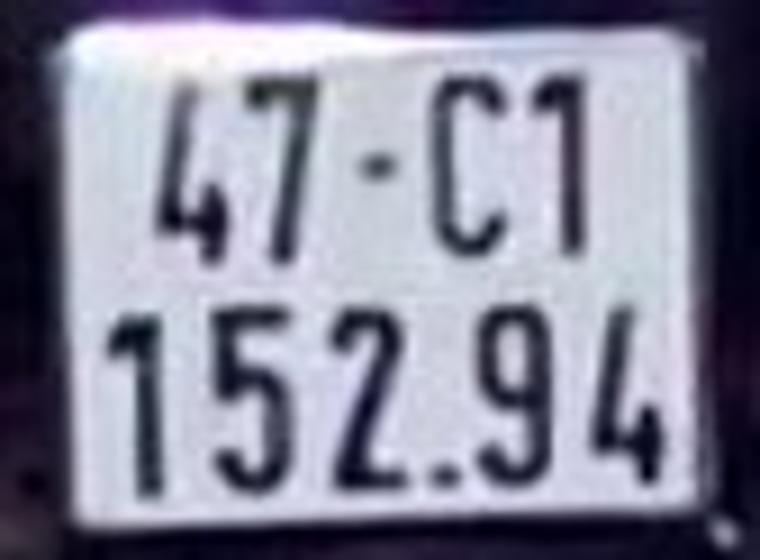-: (343, 152, 400, 181)
.: (429, 456, 461, 492)
1: (523, 68, 601, 262), (103, 315, 174, 500)
2: (315, 305, 415, 487)
4: (153, 69, 229, 269), (589, 306, 668, 480)
5: (205, 300, 300, 496)
7: (239, 69, 317, 267)
9: (471, 297, 556, 490)
C: (425, 69, 507, 255)
